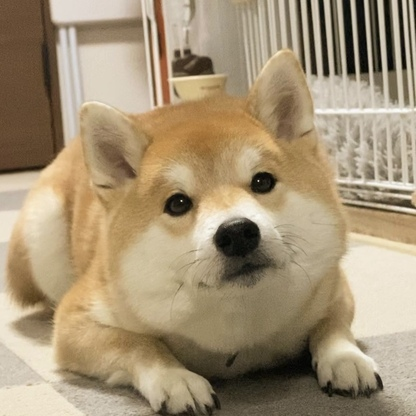shiba: (1, 43, 388, 416)
